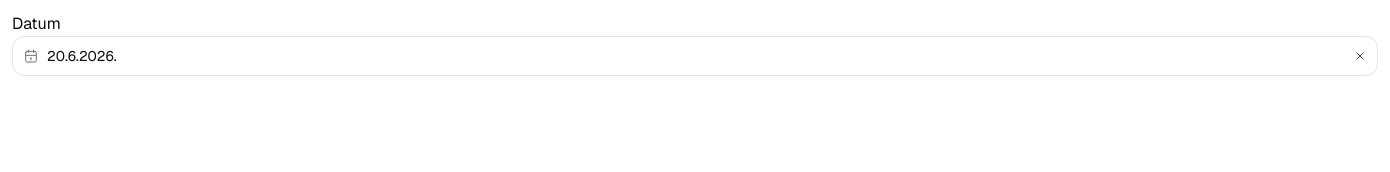
Test: DatePicker › „Obriši datum” clears the date
The image size is (1390, 172).
Click the button named "Obriši datum" at {"x": 1360, "y": 56}, box x1=1348 y1=44 x2=1372 y2=68
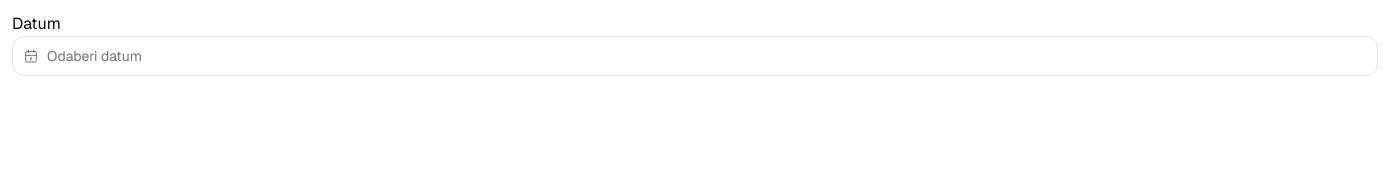
Expected: the button labelled "Odaberi datum" is shown, x1=12 y1=36 x2=1378 y2=76
